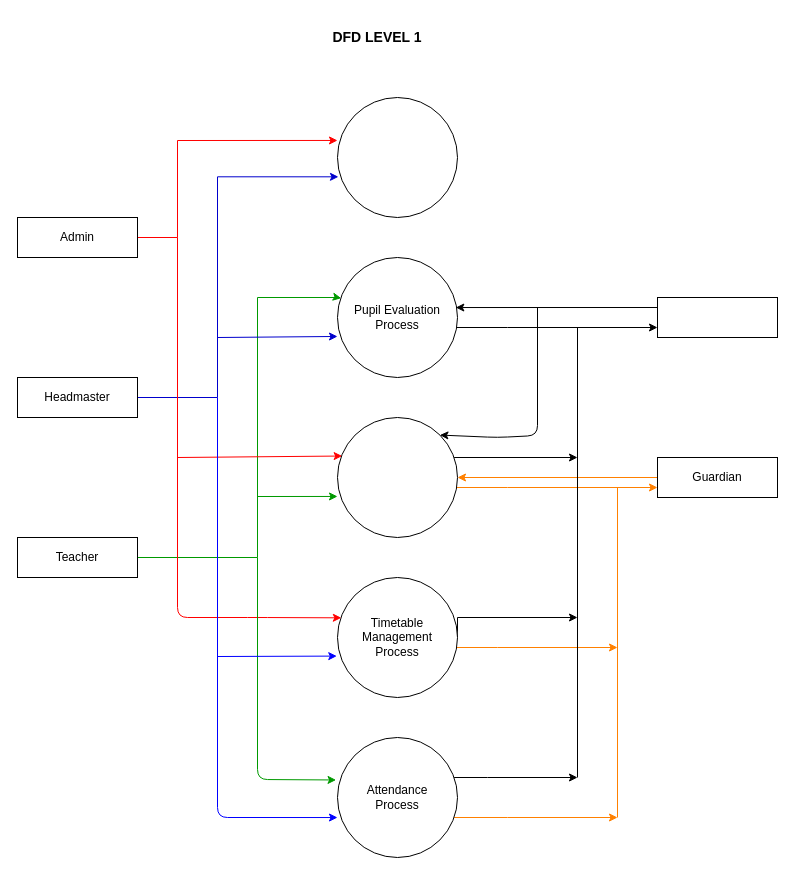
Some shapes in this 795 by 875 pixel diagram are drawn without their labels. Each missing label, with the box of its shape:
Pupil: (656, 296, 778, 338)
Teaching Management Process: (336, 96, 458, 218)
User Data Process: (336, 416, 458, 538)
